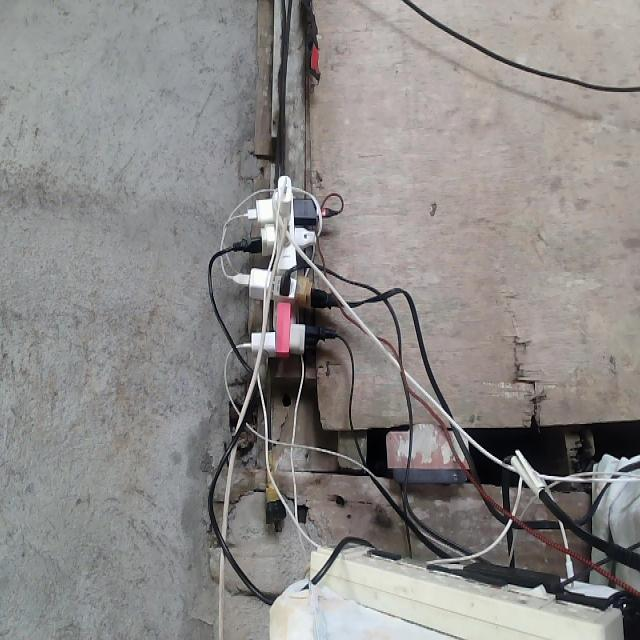-: (228, 170, 332, 362)
